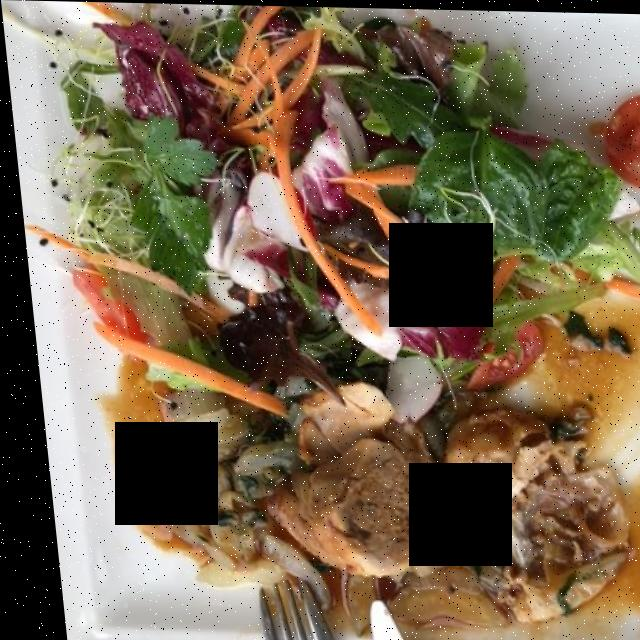carrot-raw: (211, 40, 432, 360)
chicken: (283, 380, 605, 585)
mixed-salad-chopped-without-sauce: (74, 47, 605, 363)
sauce-mushroom: (79, 315, 640, 631)
